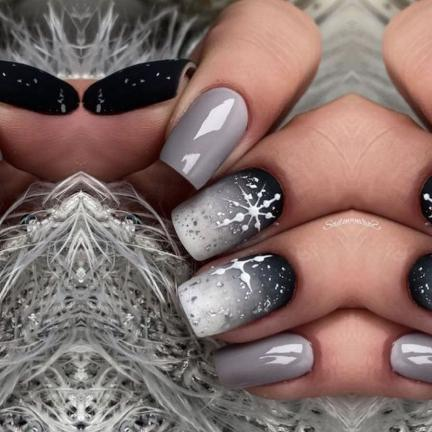Nail: (171, 168, 285, 261), (177, 254, 295, 337), (159, 88, 248, 189), (81, 59, 189, 116), (214, 334, 313, 389), (0, 60, 79, 116), (391, 334, 432, 383), (408, 255, 432, 311), (419, 175, 432, 224), (0, 152, 1, 160)
